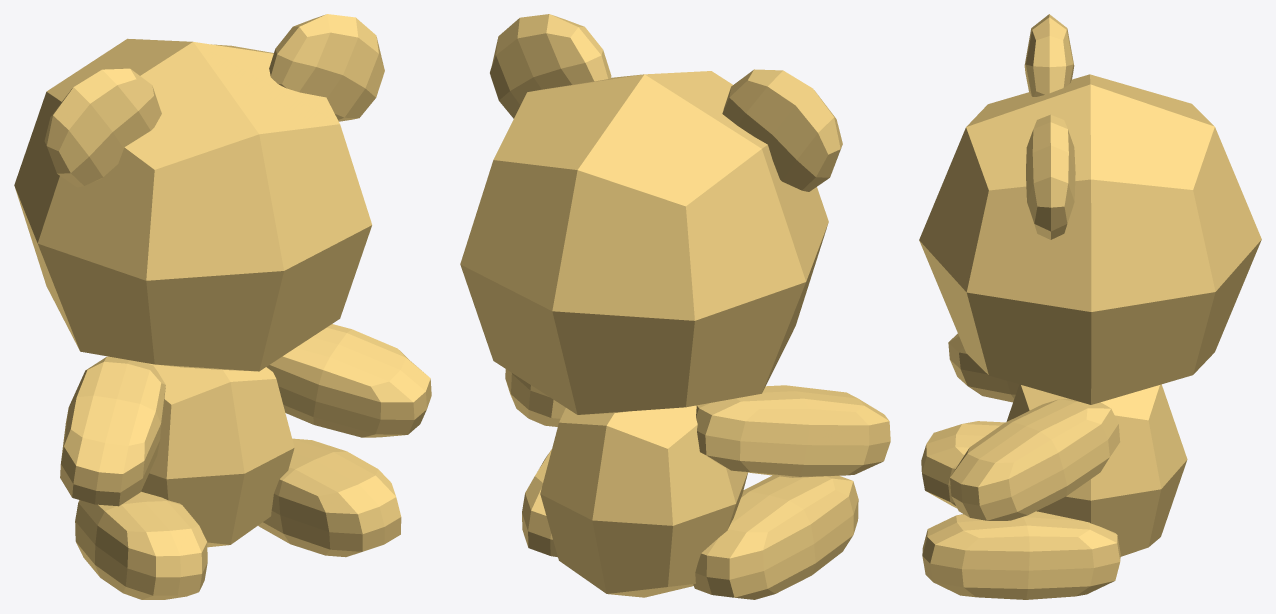
Rendered from Bear_toy.fbx.
3 views of the same model, side by side, from view 1: azimuth 30°, elevation 25°; view 2: azimuth 150°, elevation 25°; view 3: azimuth 270°, elevation 25° (orthographic). The views are drawn at different scales.
Parts seen in each view (by area): view 1: Bear_toy; view 2: Bear_toy; view 3: Bear_toy.
Boxes of the visible parts, box(x1,y1,x2,y2) form: Bear_toy: box(14, 14, 431, 599); Bear_toy: box(460, 14, 890, 599); Bear_toy: box(919, 14, 1261, 599).
Size of the model in its own units: 15.36 by 21.34 by 13.34.
